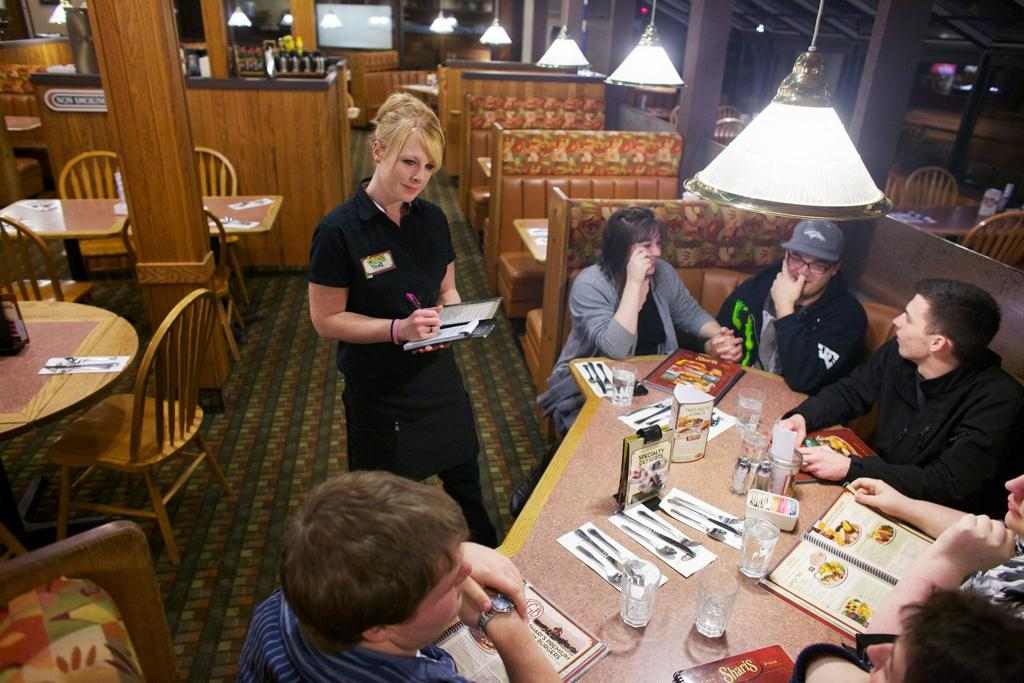face: (391, 543, 471, 647), (865, 620, 931, 681), (386, 140, 433, 204), (892, 292, 933, 359), (784, 250, 828, 297), (1004, 456, 1024, 535), (631, 236, 660, 277)
